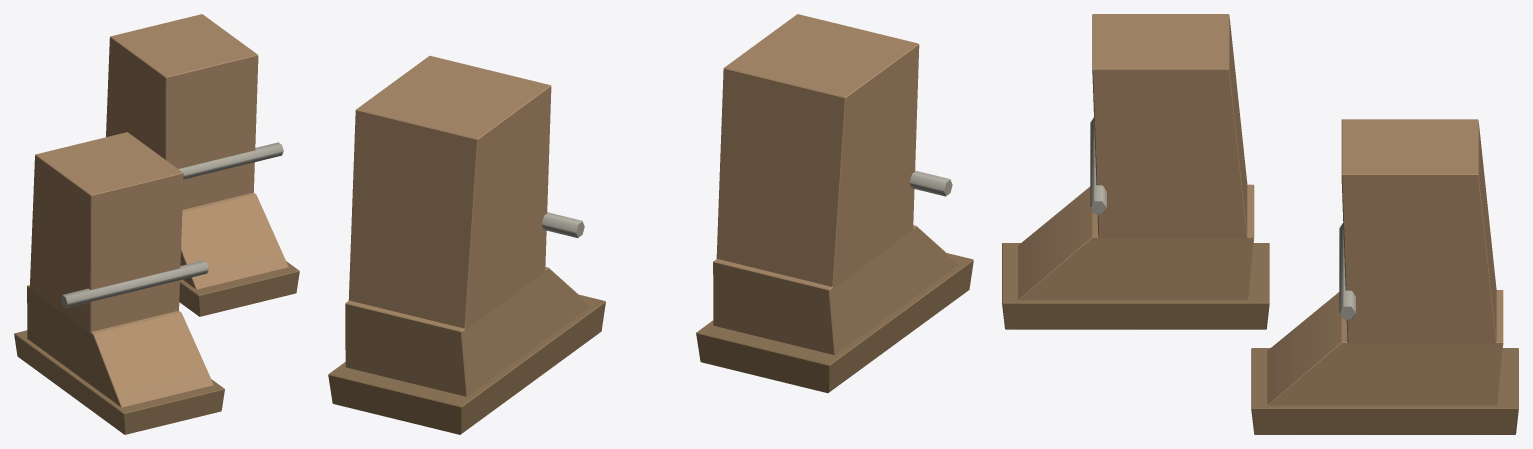
Rendered from IT_boots_hide.fbx.
The picture shows the model from 3 angles, left to right: view 1: azimuth 30°, elevation 25°; view 2: azimuth 150°, elevation 25°; view 3: azimuth 270°, elevation 25°; orthographic projection. The views are drawn at different scales.
Parts seen in each view (by area): view 1: IT_boots_hide; view 2: IT_boots_hide; view 3: IT_boots_hide.
Boxes of the visible parts, bbox=[...] form: IT_boots_hide: bbox=[14, 14, 299, 434]; IT_boots_hide: bbox=[328, 14, 973, 434]; IT_boots_hide: bbox=[1002, 14, 1518, 434].
Size of the model in its own units: 0.72 by 0.46 by 0.8298.
